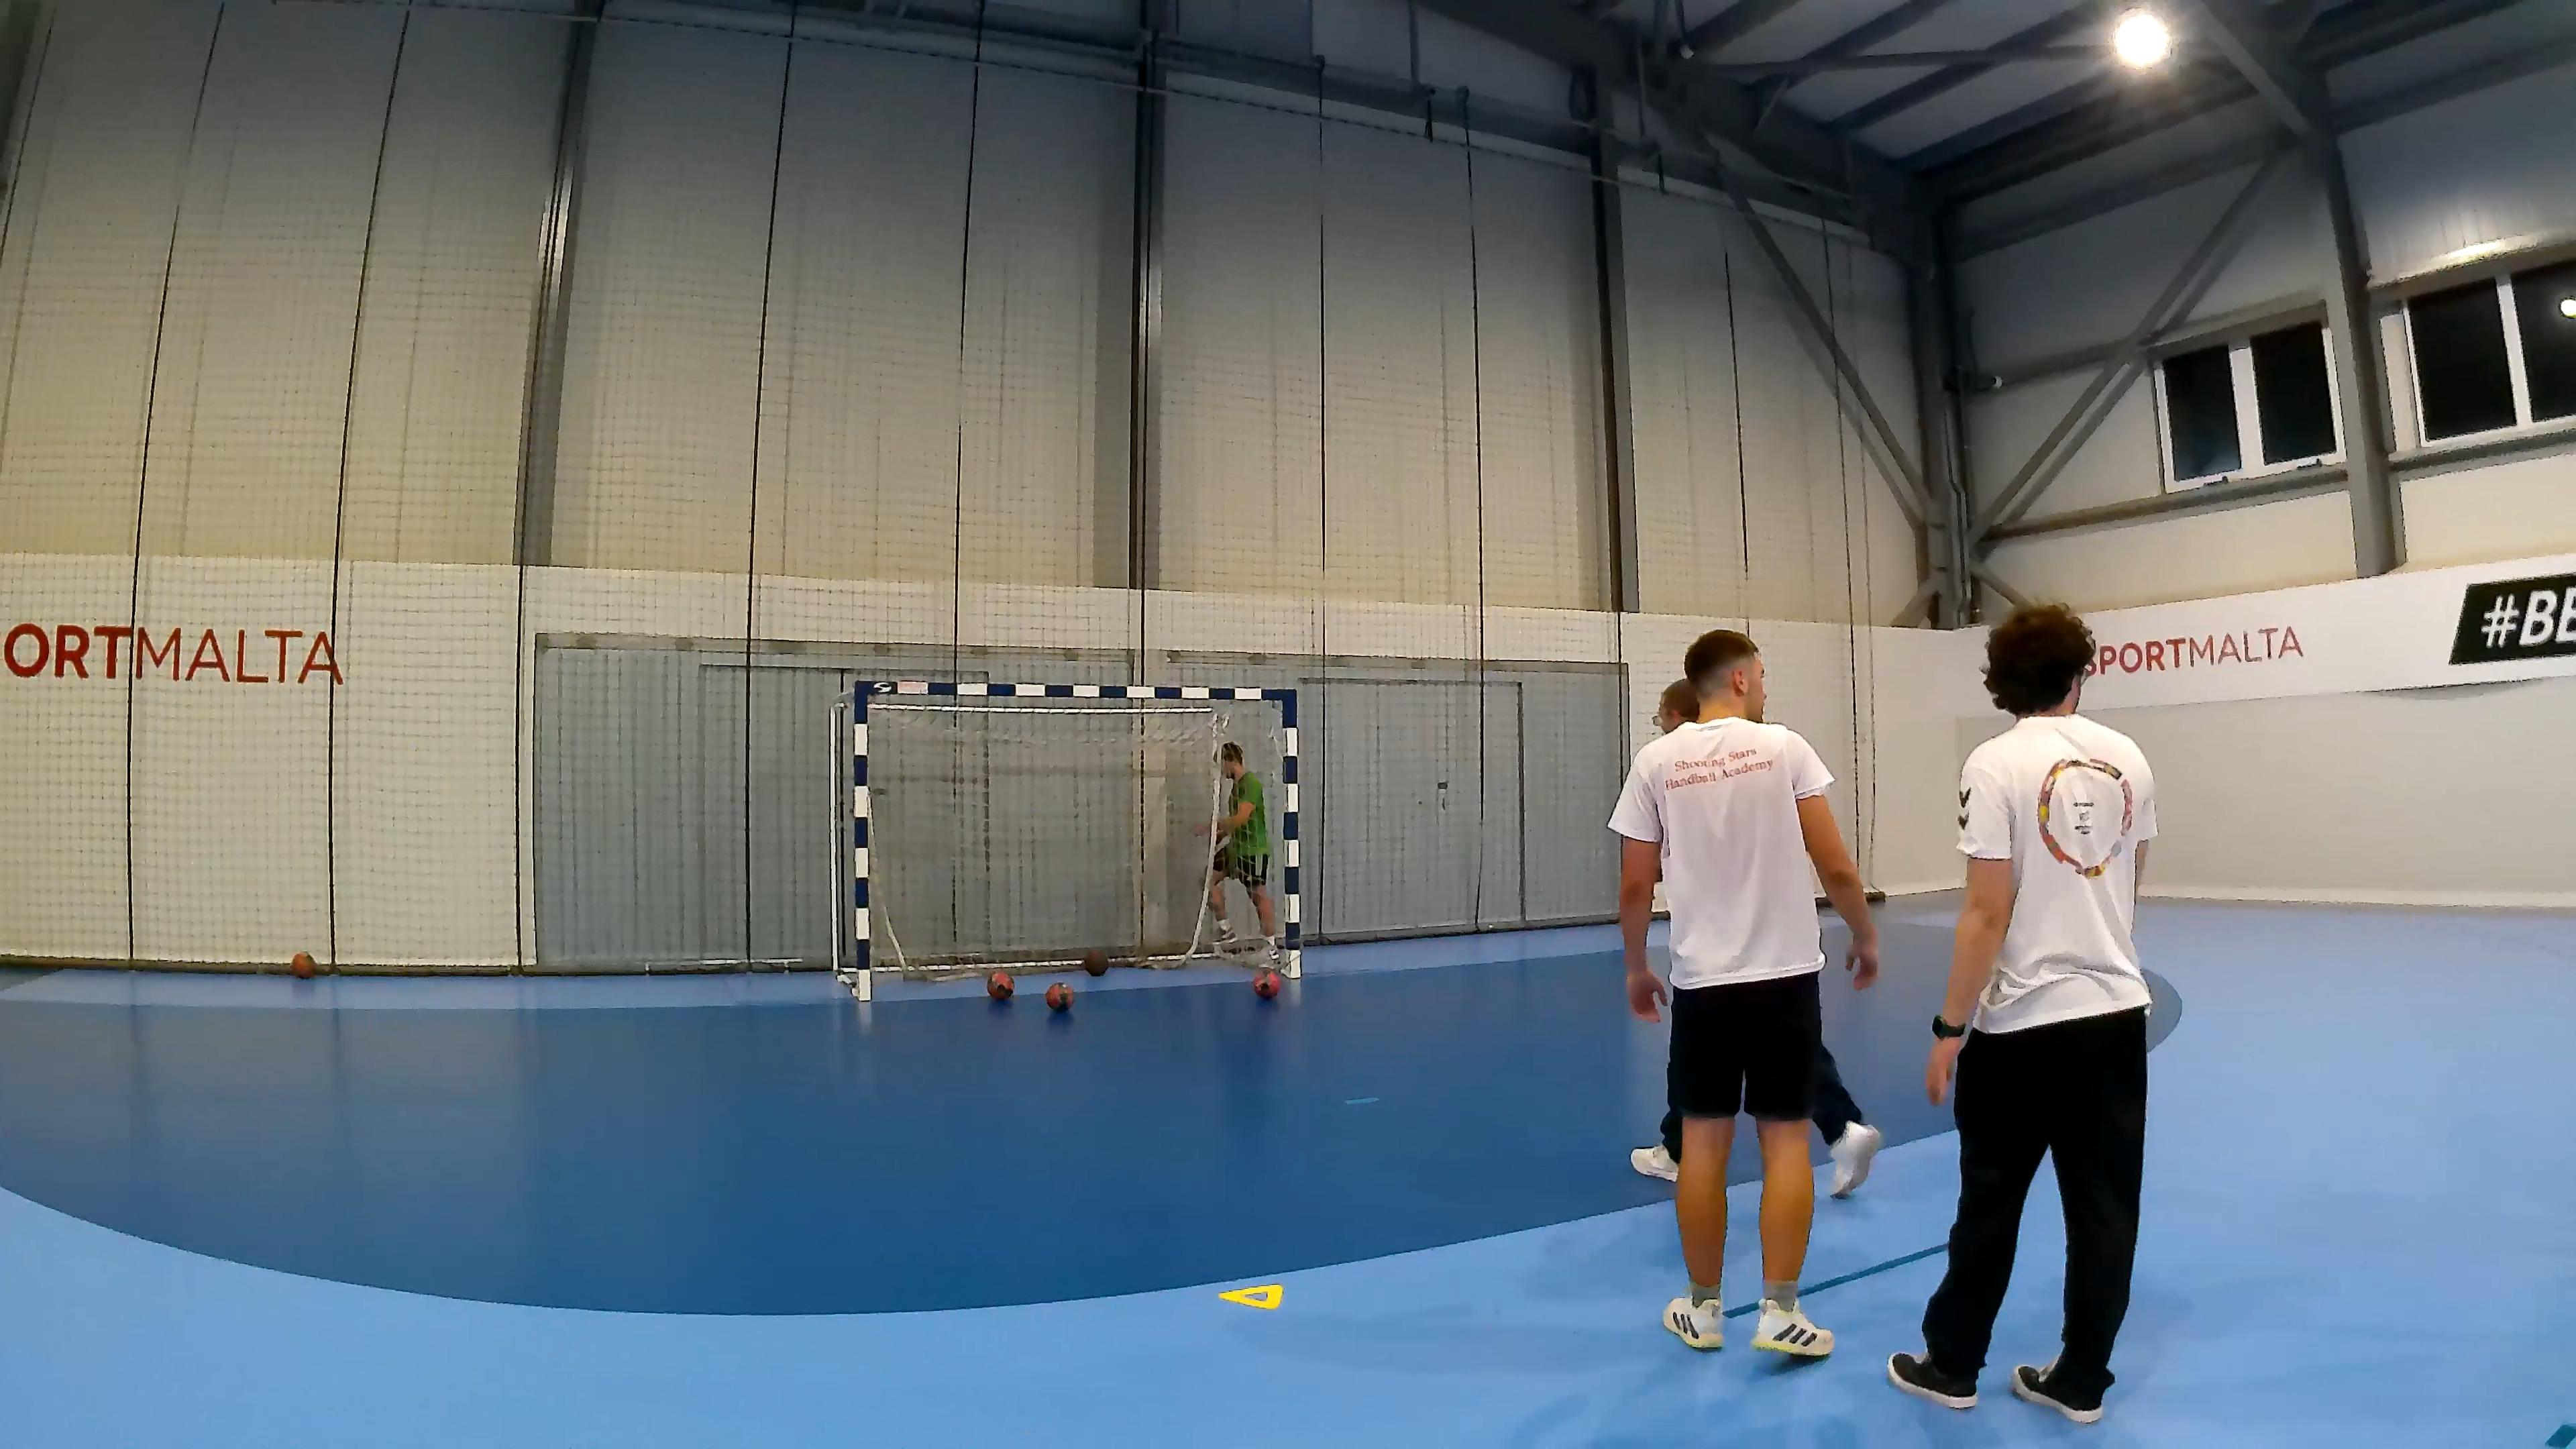handball: (1044, 980, 1072, 1010), (985, 970, 1014, 1000), (1253, 970, 1281, 998), (1081, 948, 1108, 977), (290, 950, 313, 977)
